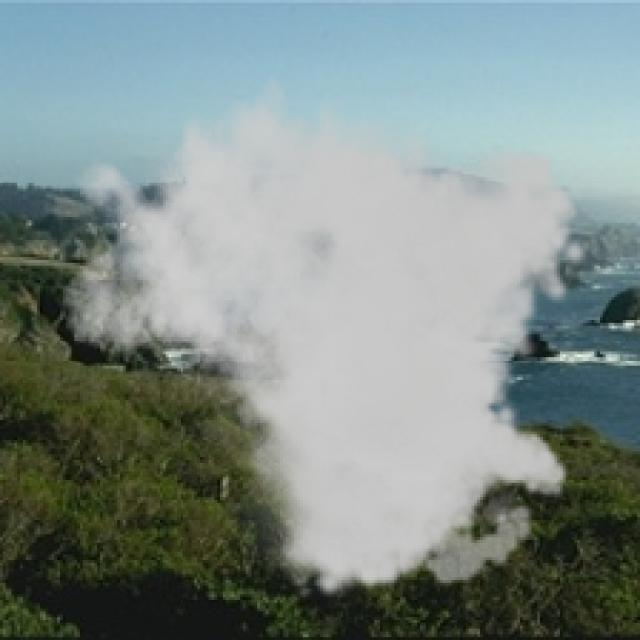smoke: (60, 54, 591, 600)
